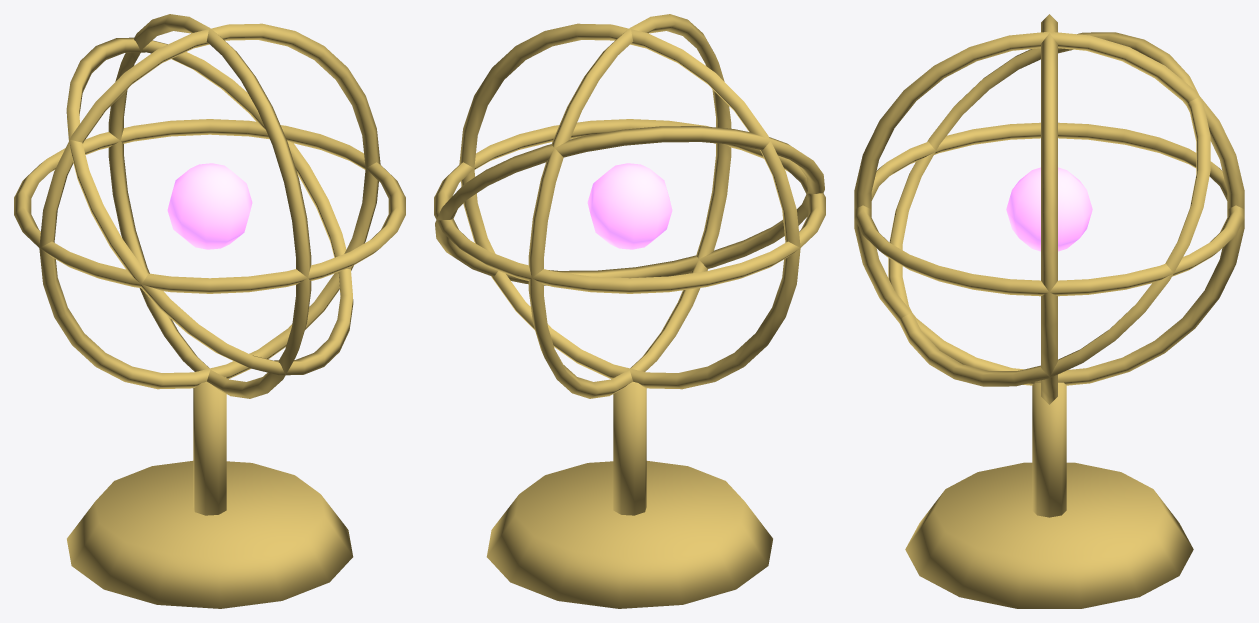
Rendered from science_armillary.glb.
The picture shows the model from 3 angles, left to right: view 1: azimuth 30°, elevation 25°; view 2: azimuth 150°, elevation 25°; view 3: azimuth 270°, elevation 25°; orthographic projection.
Visible parts, largest first — view 1: GD_science_armillary__m0, GD_science_armillary__m1; view 2: GD_science_armillary__m0, GD_science_armillary__m1; view 3: GD_science_armillary__m0, GD_science_armillary__m1.
Boxes of the visible parts, x1,y1,x2,y2 form: GD_science_armillary__m0: (14,14,405,608); GD_science_armillary__m1: (167,163,252,249); GD_science_armillary__m0: (434,14,825,608); GD_science_armillary__m1: (587,163,672,249); GD_science_armillary__m0: (854,14,1244,608); GD_science_armillary__m1: (1006,167,1092,251).
Bounding box in the file's own units: 0.272 × 0.396 × 0.2705.
